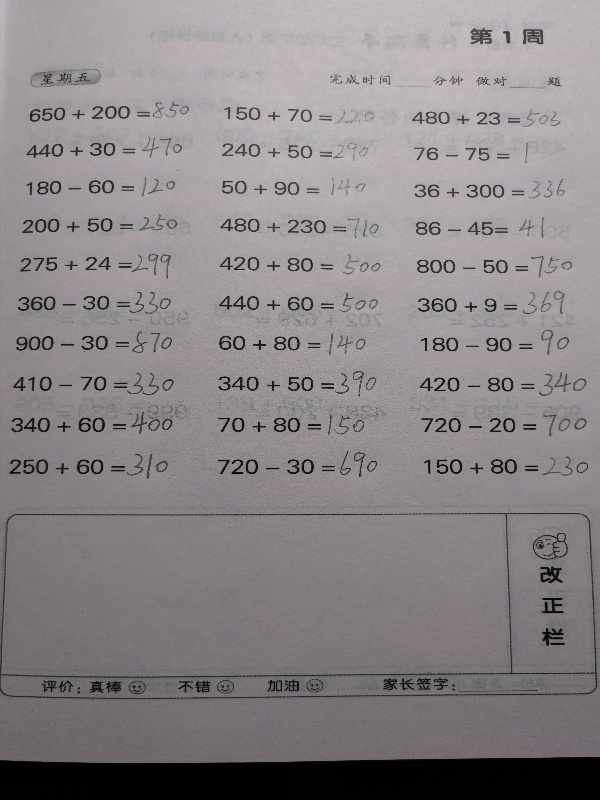equation: (213, 445, 381, 479), (416, 370, 590, 402), (215, 367, 381, 400), (414, 283, 571, 317), (5, 448, 171, 480), (10, 369, 178, 400), (8, 408, 177, 438), (13, 328, 177, 358), (16, 247, 174, 278), (418, 327, 574, 358), (421, 453, 593, 481), (15, 288, 175, 318), (414, 209, 555, 243), (216, 289, 379, 317), (216, 248, 384, 275), (215, 330, 370, 359), (23, 133, 189, 160), (379, 669, 516, 701), (214, 411, 369, 439), (417, 411, 590, 436), (217, 211, 381, 237), (25, 98, 199, 122), (218, 173, 375, 199), (218, 136, 375, 162), (413, 253, 575, 278), (408, 136, 540, 166), (22, 173, 179, 198), (19, 212, 180, 236), (412, 177, 566, 202), (220, 104, 381, 125), (409, 108, 560, 129)
